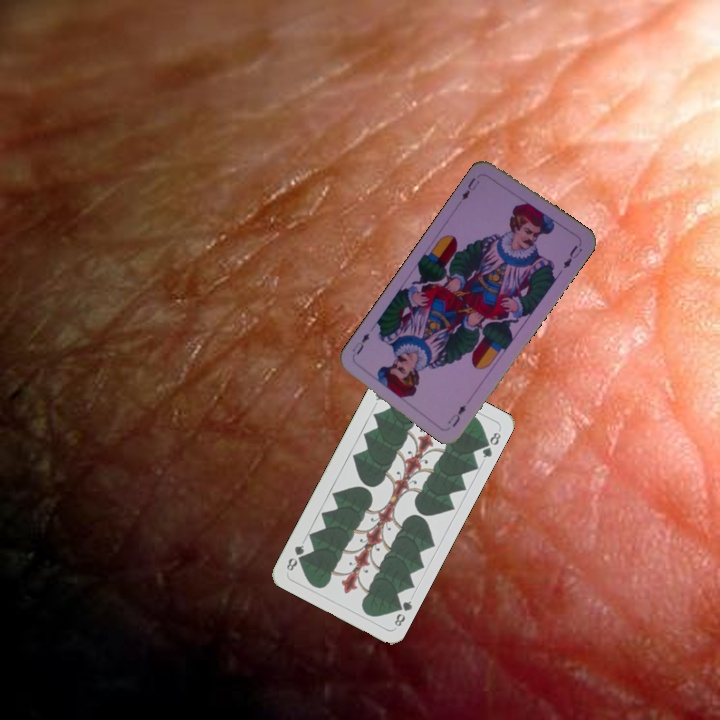EU: (455, 173, 482, 206), (444, 401, 469, 430)
G8: (390, 597, 415, 629)
